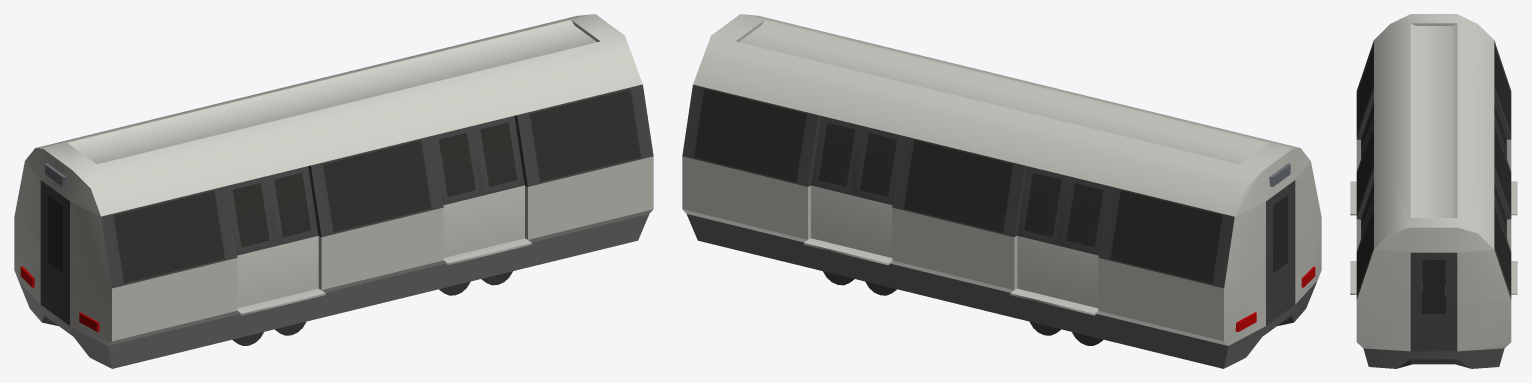
The model's file is metrotrain_back.fbx.
The picture shows the model from 3 angles, left to right: view 1: azimuth 30°, elevation 25°; view 2: azimuth 150°, elevation 25°; view 3: azimuth 270°, elevation 25°; orthographic projection. The views are drawn at different scales.
Parts seen in each view (by area): view 1: metrotrain_back; view 2: metrotrain_back; view 3: metrotrain_back.
Boxes of the visible parts, <box> form: metrotrain_back: <box>14,14,653,368</box>; metrotrain_back: <box>682,14,1321,368</box>; metrotrain_back: <box>1350,14,1517,368</box>.
Bounding box in the file's own units: 892 × 296 × 292.
